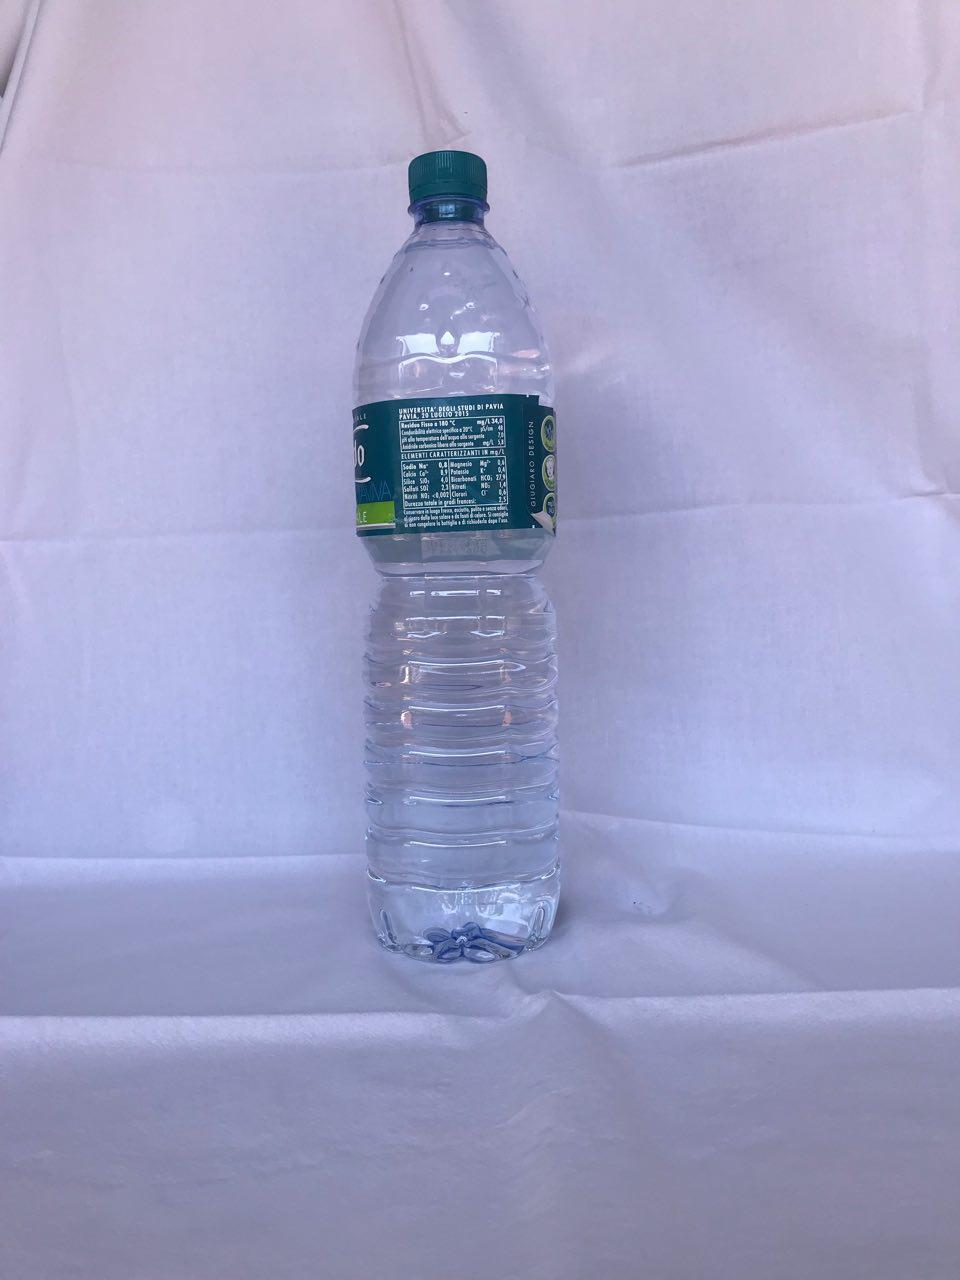san_bernardo: (349, 146, 561, 965)
